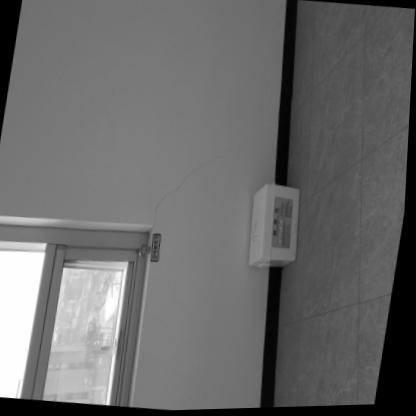DDL: (244, 183, 308, 272)
